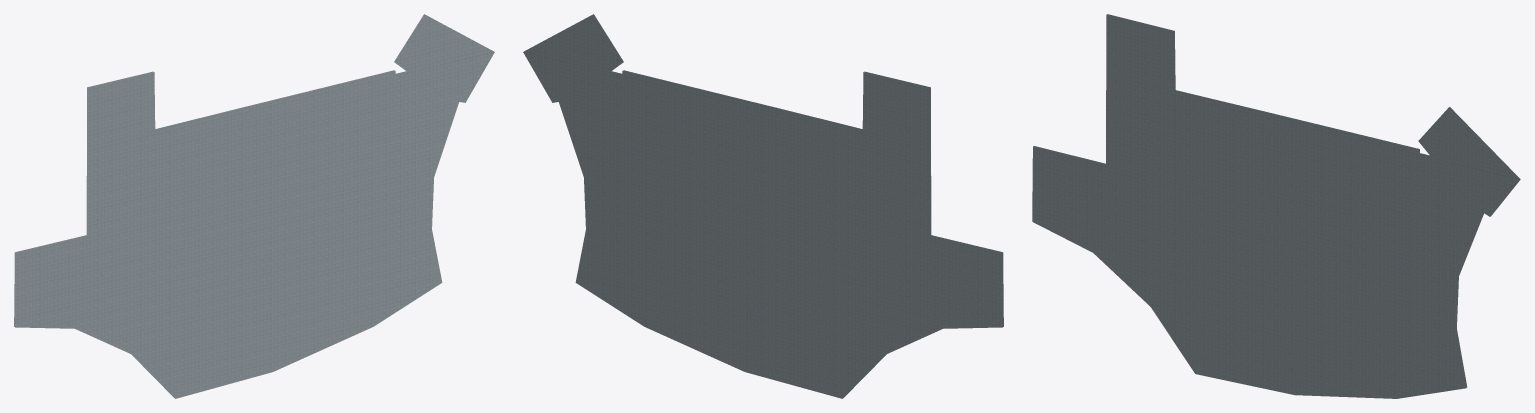
File: floor_18.obj
3 renders of one model, left to right at view 1: azimuth 30°, elevation 25°; view 2: azimuth 150°, elevation 25°; view 3: azimuth 330°, elevation 25°, orthographic.
Visible parts, largest first — view 1: floor_18; view 2: floor_18; view 3: floor_18.
Part boxes in pixels (box(x1,y1,x2,y2)): floor_18: box(14, 14, 494, 398); floor_18: box(523, 14, 1003, 398); floor_18: box(1032, 14, 1520, 398).
Size of the model in its own units: 33.26 by 22.01 by 0.1.
1 material, 1 textured.
